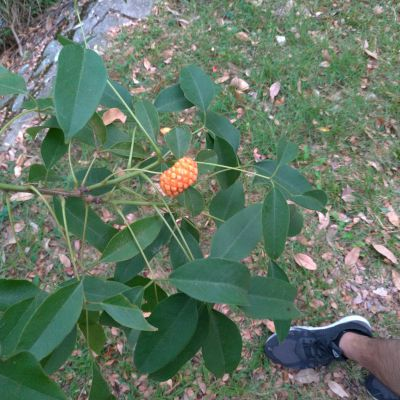eggs: (155, 152, 202, 195)
